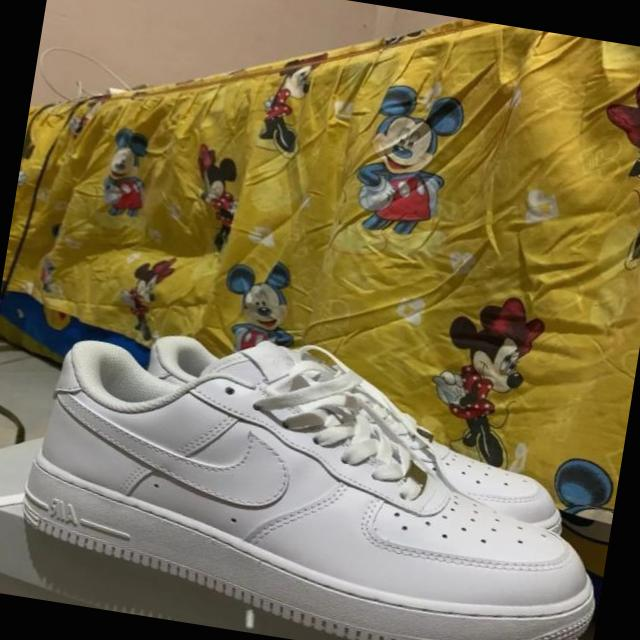nike_original_airforce: (12, 306, 632, 640), (127, 322, 588, 538)
